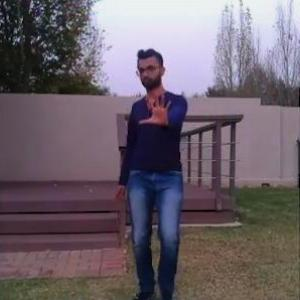follow_hand: (138, 82, 174, 129)
